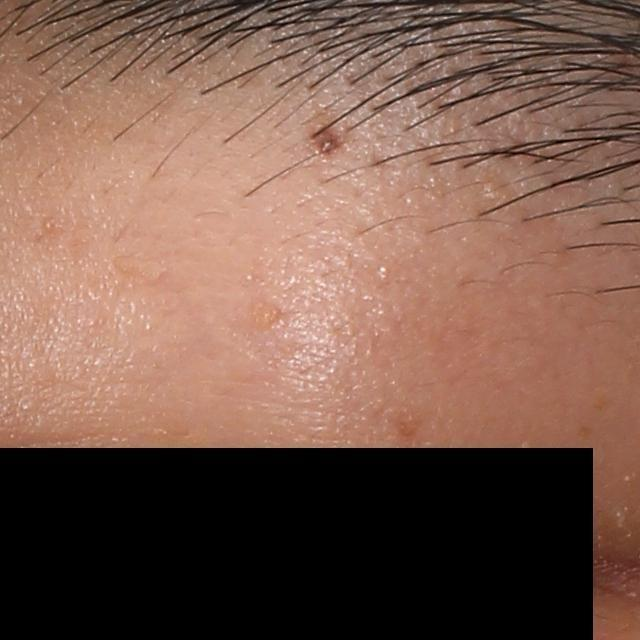melasma: (394, 406, 426, 444)
nevus: (313, 118, 351, 158)
